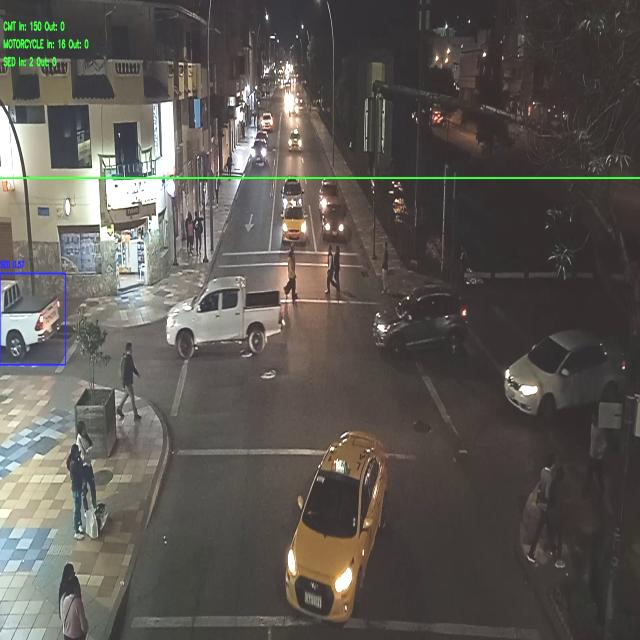CMT: (166, 276, 284, 354), (0, 281, 60, 355)
SED: (286, 438, 386, 618), (505, 328, 612, 416), (322, 202, 345, 238), (283, 208, 306, 244), (290, 132, 302, 152)
SUV: (374, 286, 465, 352), (282, 178, 302, 205), (253, 139, 266, 164), (262, 113, 272, 130)
